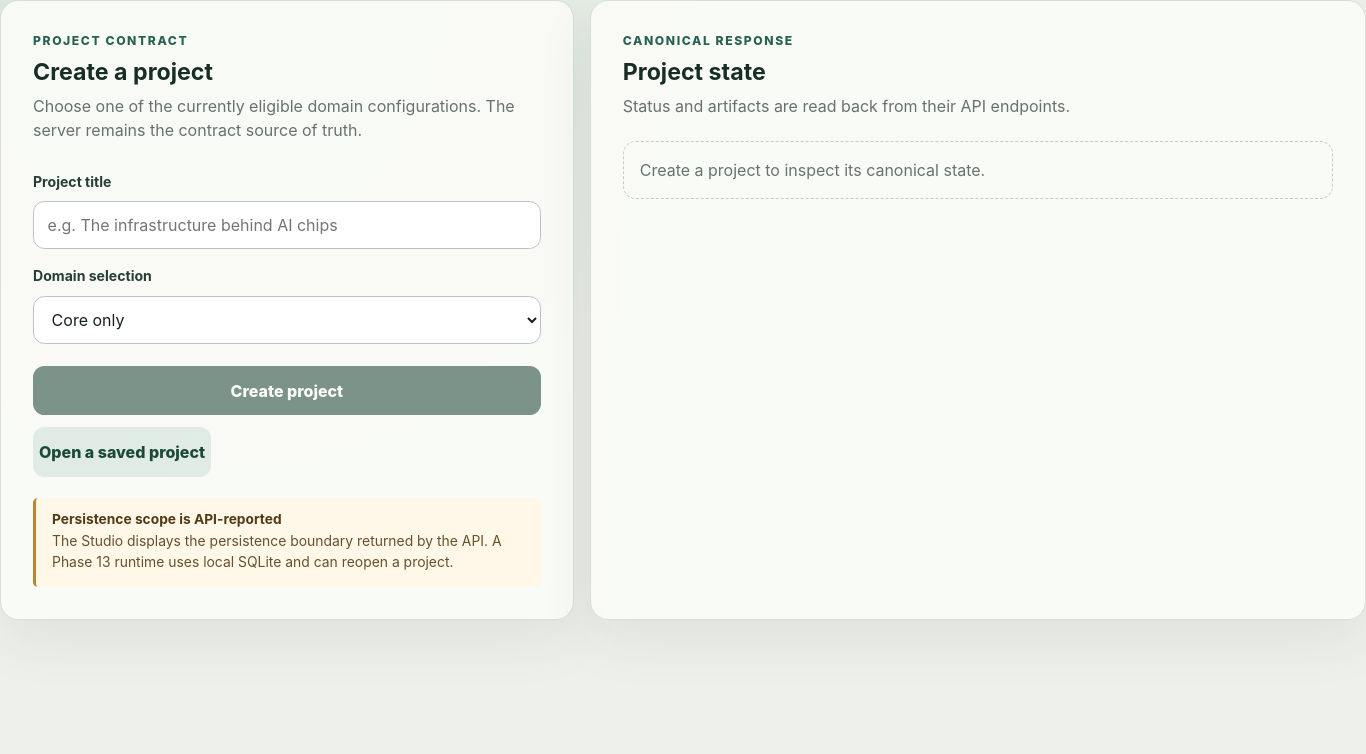
Test: ProjectConsole › maps the Business & Technology choice to its fixed request
This screenshot has width=1366, height=754.
In the field labelled "Project title": x=287, y=225 [33, 201, 541, 249], type "Business project"
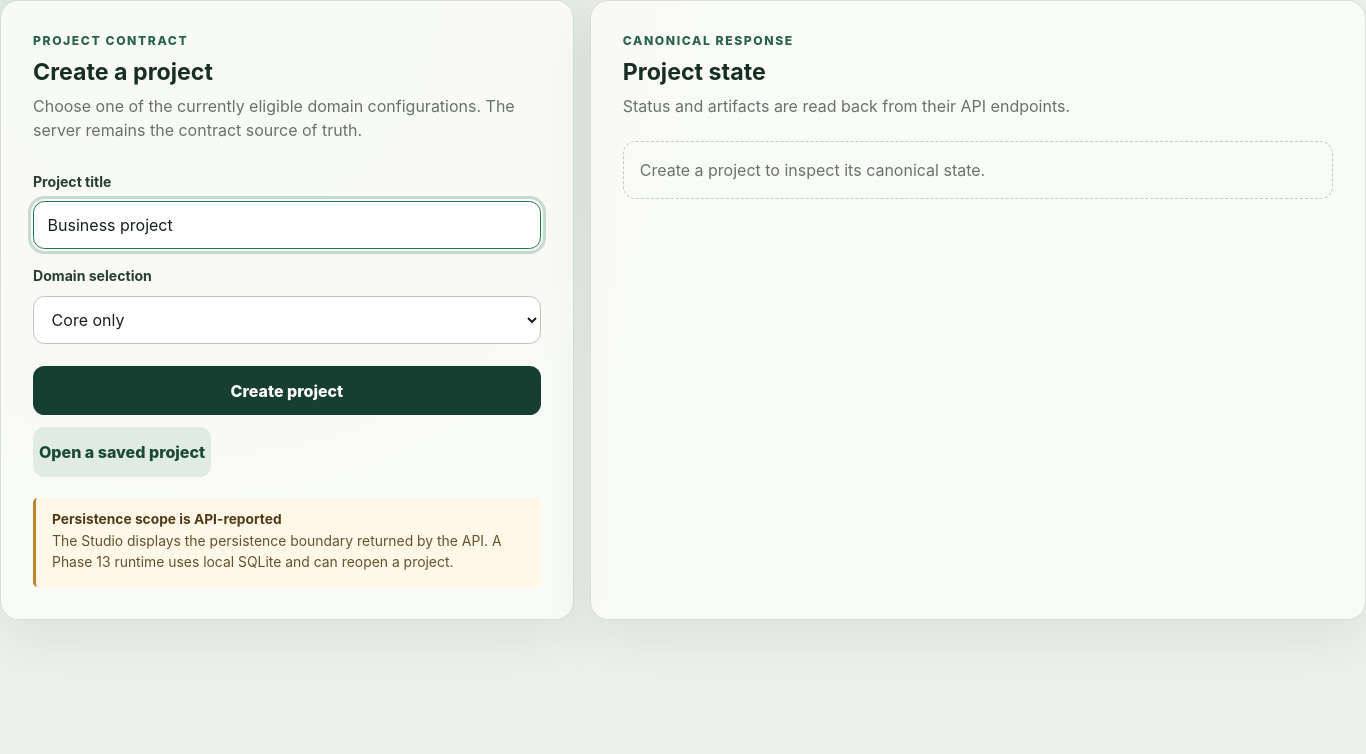
Select "Business & Technology" in the dropdown labelled "Domain selection": x=287, y=320 [33, 296, 541, 344]
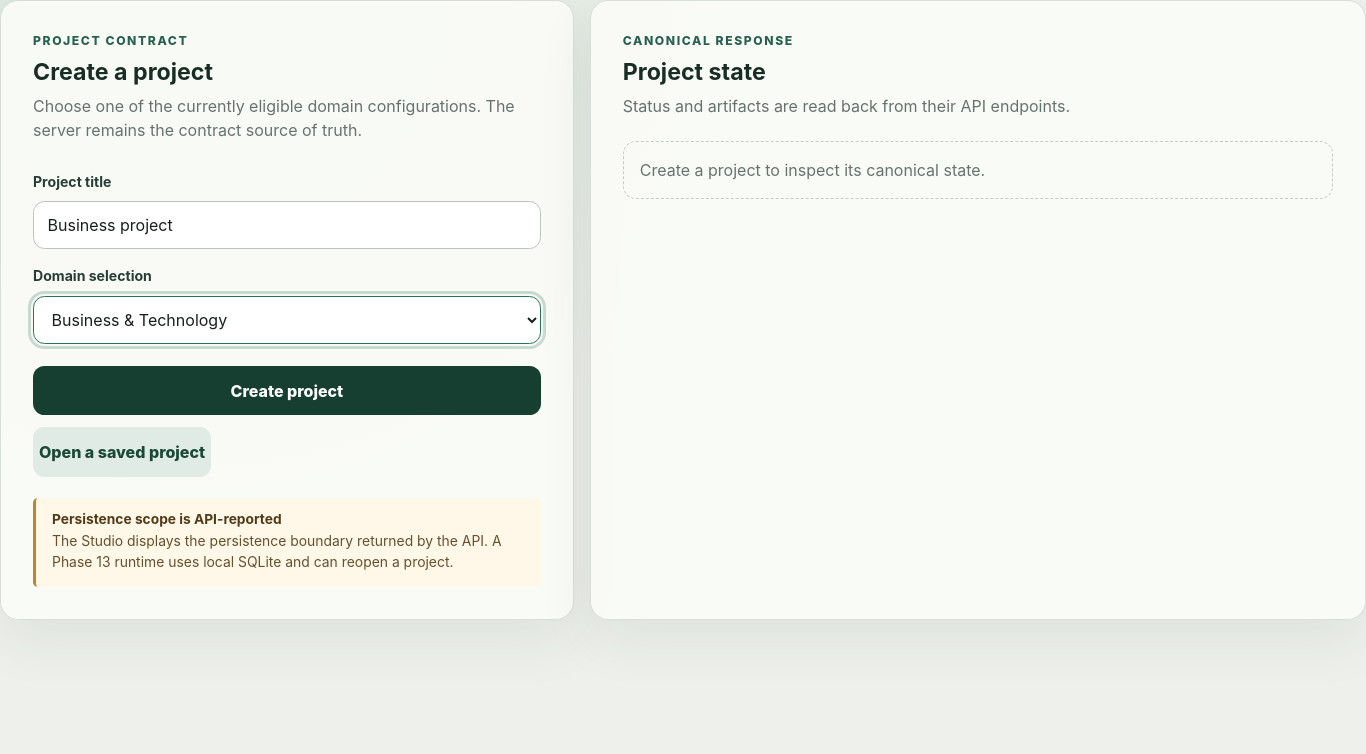
Click the button "Create project": x=287, y=391 [33, 366, 541, 416]
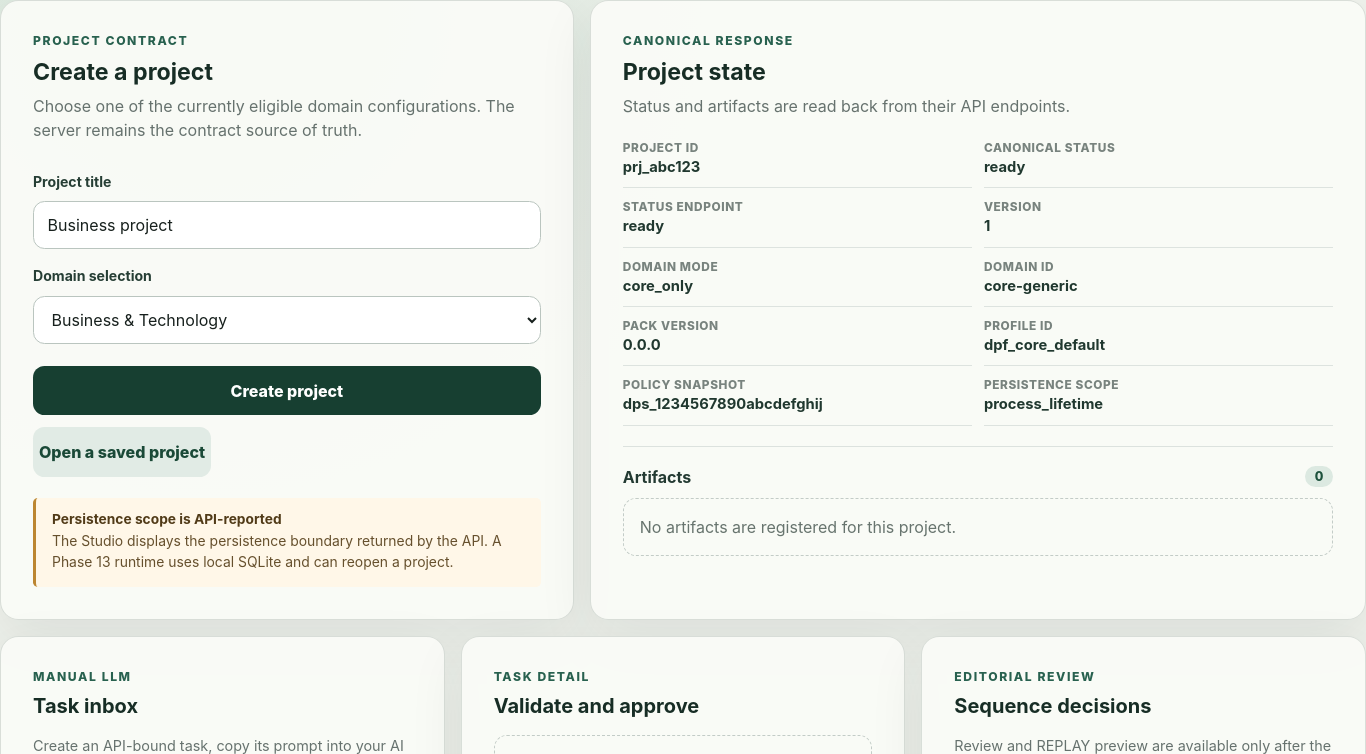
expect the text "prj_abc123" is shown: met, box [623, 158, 700, 176]
